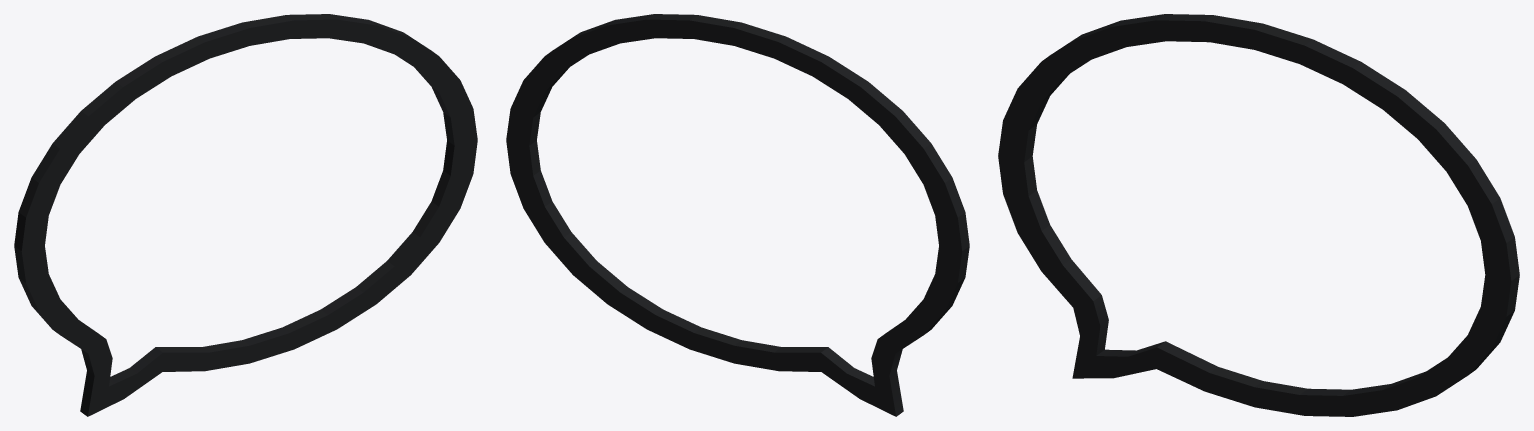
File: SM_Icon_SpeechBubble_01.fbx
3 views of the same model, side by side, from view 1: azimuth 30°, elevation 25°; view 2: azimuth 150°, elevation 25°; view 3: azimuth 330°, elevation 25° (orthographic). The views are drawn at different scales.
Visible parts, largest first — view 1: SM_Icon_SpeechBubble_01; view 2: SM_Icon_SpeechBubble_01; view 3: SM_Icon_SpeechBubble_01.
Part boxes in pixels (x1,y1,x2,y2): SM_Icon_SpeechBubble_01: (14, 14, 477, 416); SM_Icon_SpeechBubble_01: (506, 14, 969, 416); SM_Icon_SpeechBubble_01: (998, 14, 1519, 416).
Bounding box in the file's own units: 66.74 × 48.86 × 1.92.
